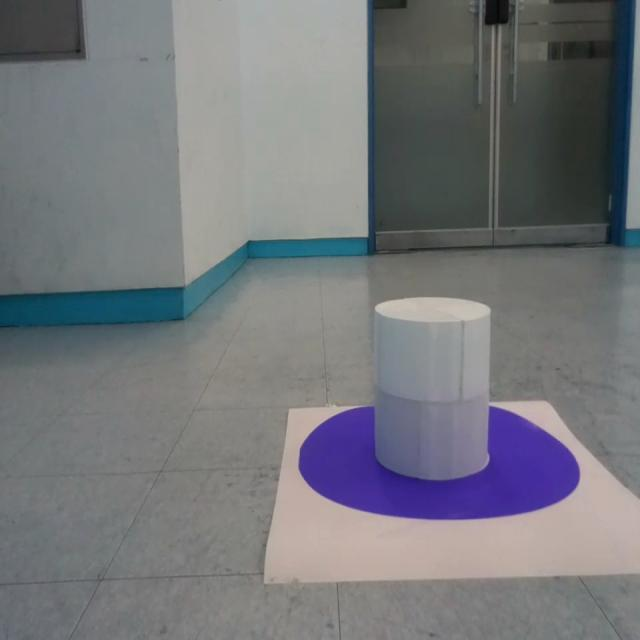cylinder: (372, 296, 492, 481)
